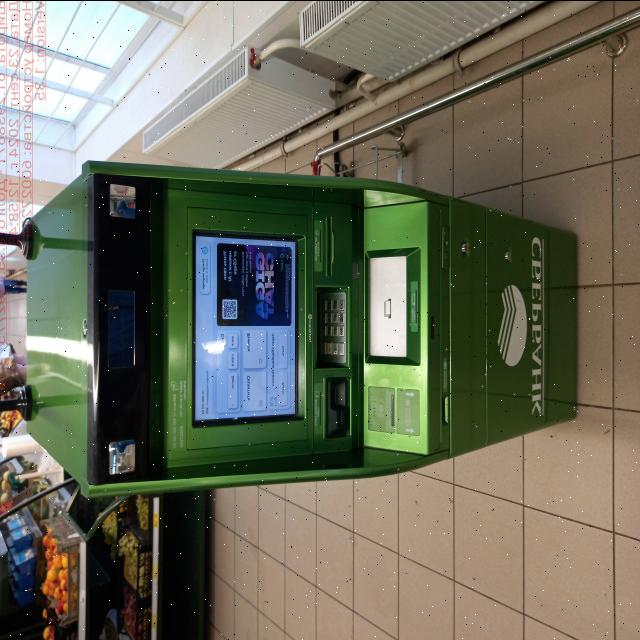bank: (24, 158, 579, 496)
